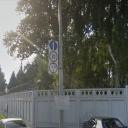speed_limit_20: (50, 50, 58, 62)
